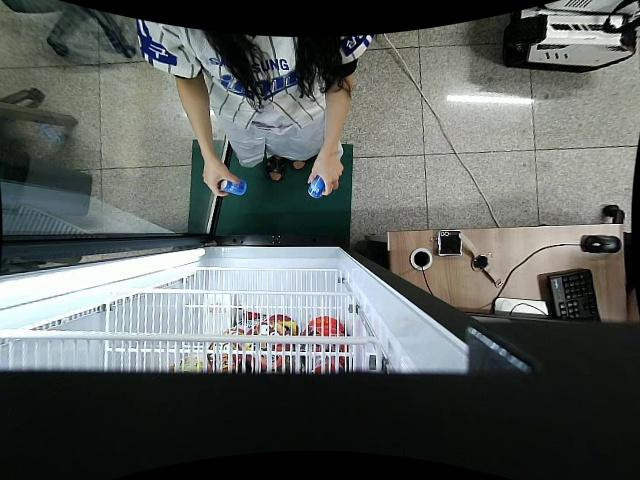00_hand: (307, 155, 344, 197), (203, 161, 241, 197)
15_letsbe: (217, 175, 246, 197), (307, 175, 327, 199)
